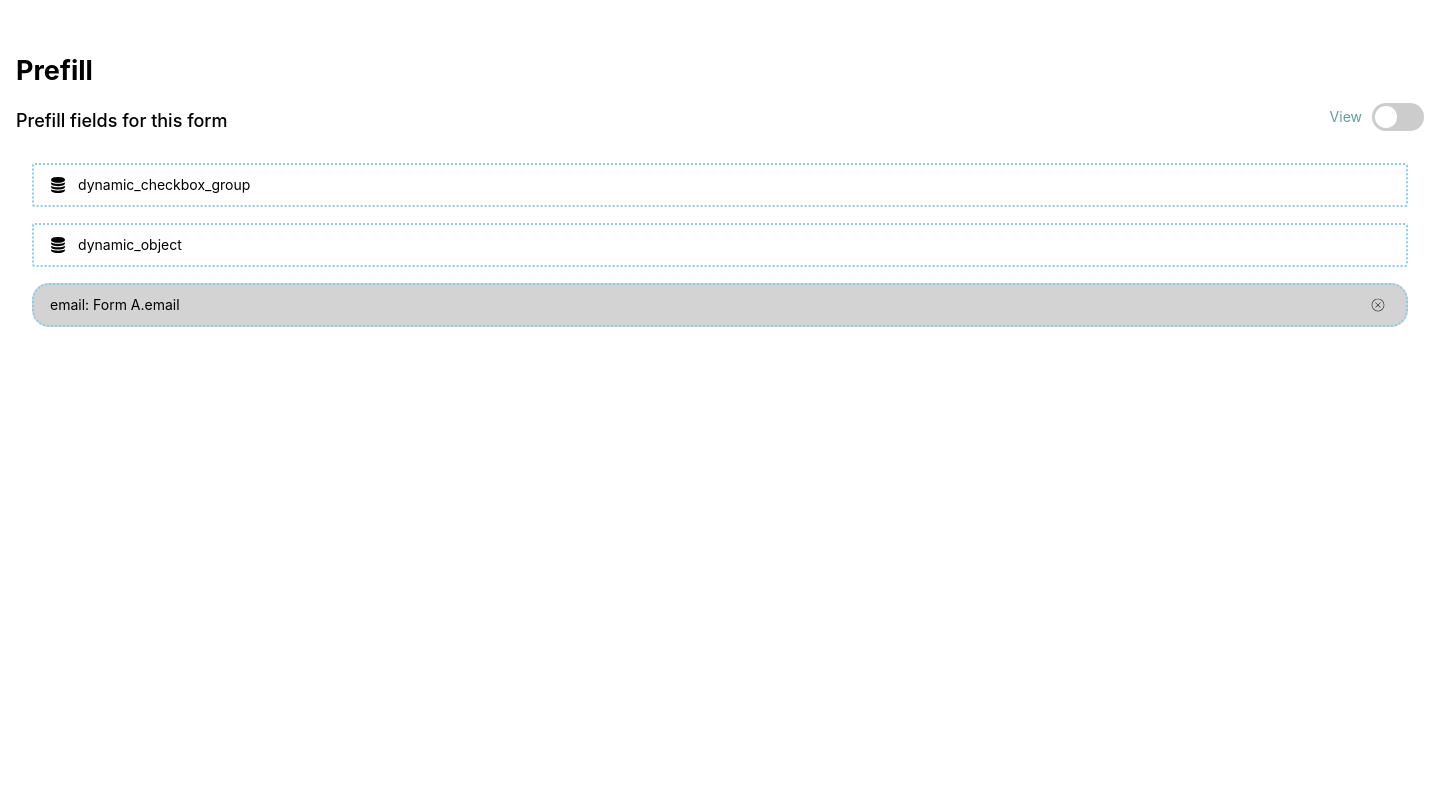
Modal › click non-prefilled field > open modal
Expected: the heading "Prefill" is shown, x1=16 y1=54 x2=93 y2=87
Click the 2nd checkbox with test id "toggle" at (1398, 117), box x1=1372 y1=103 x2=1424 y2=131
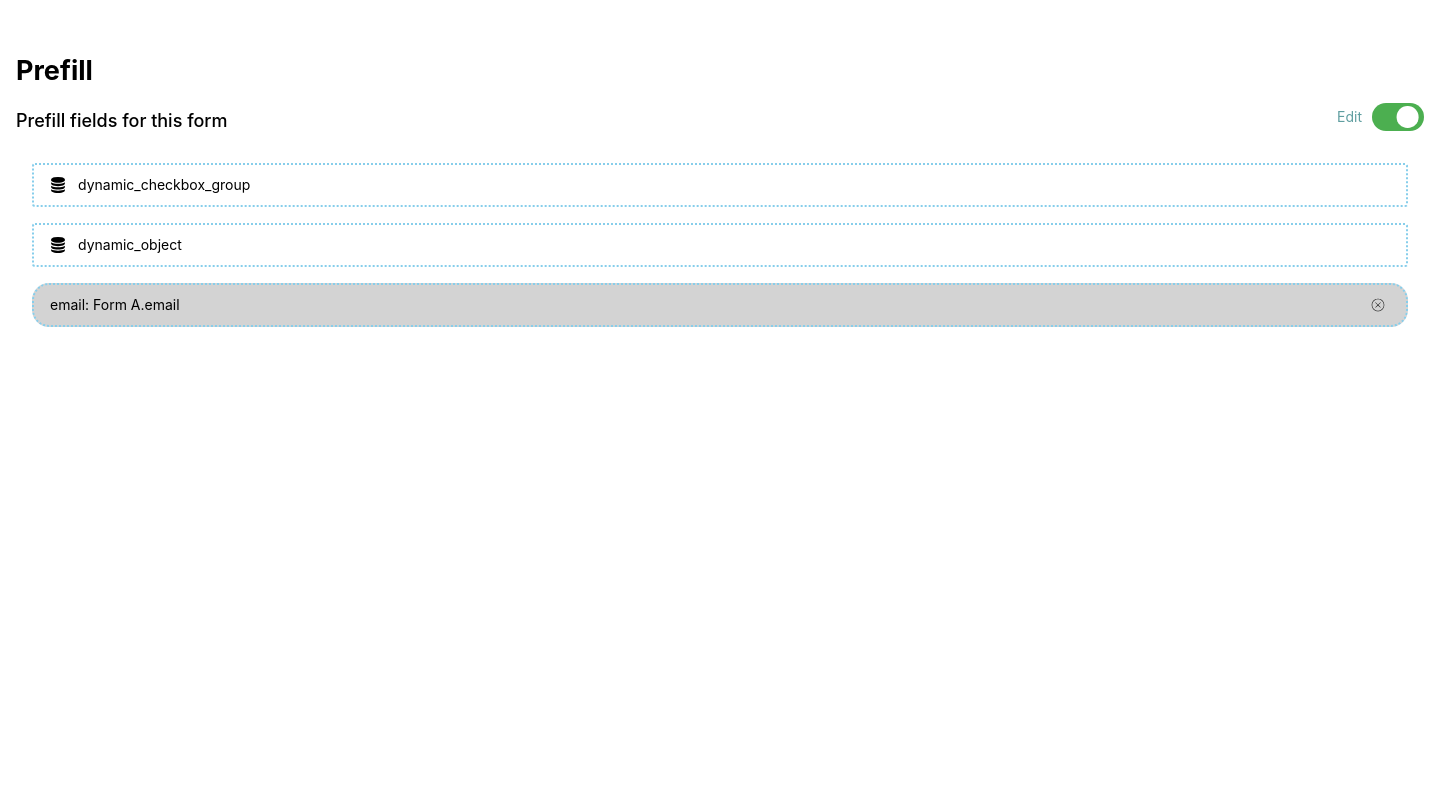
Click the element with test id "first" at (720, 185), box x1=32 y1=163 x2=1408 y2=207
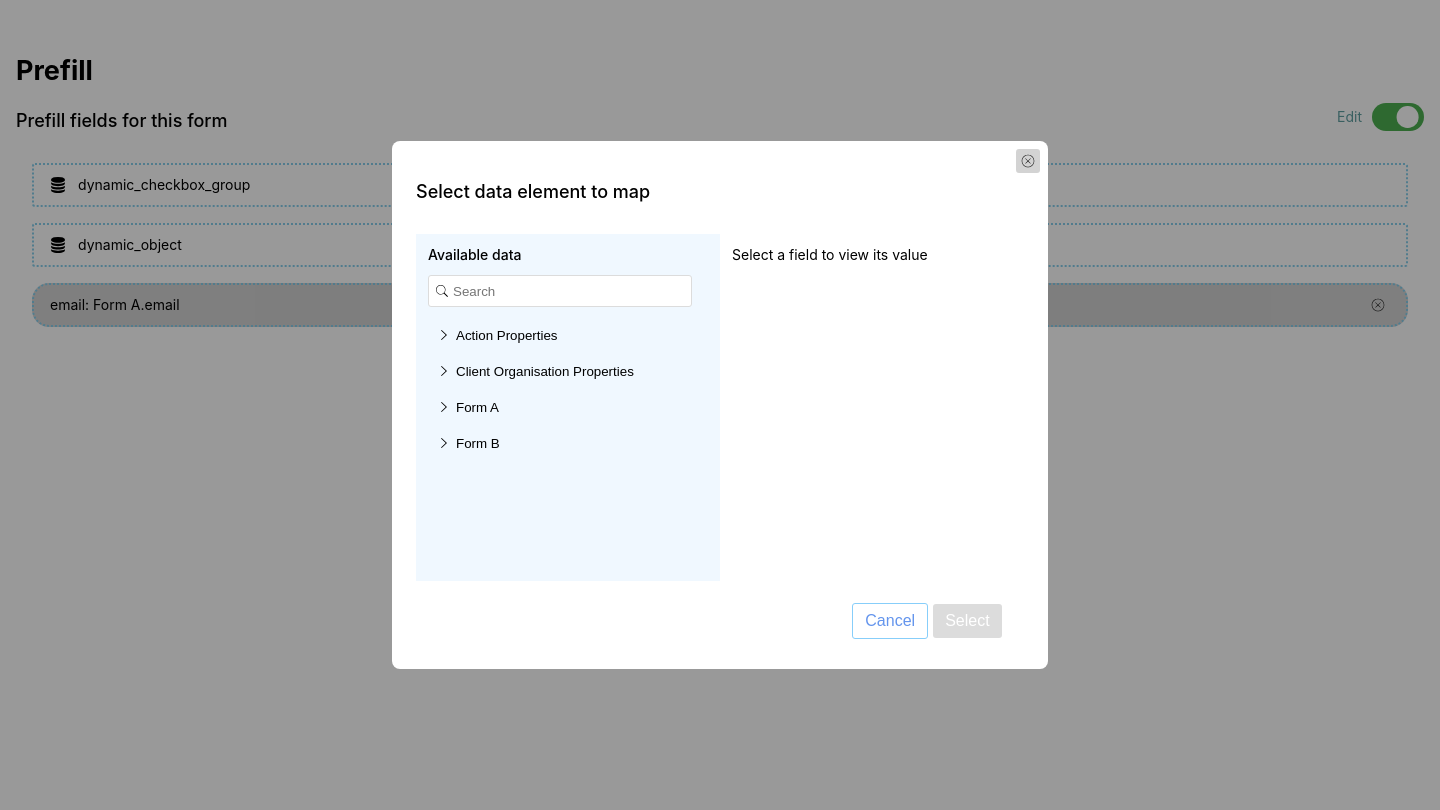
Result: the element with test id "modal" is shown at x1=392 y1=141 x2=1048 y2=669
